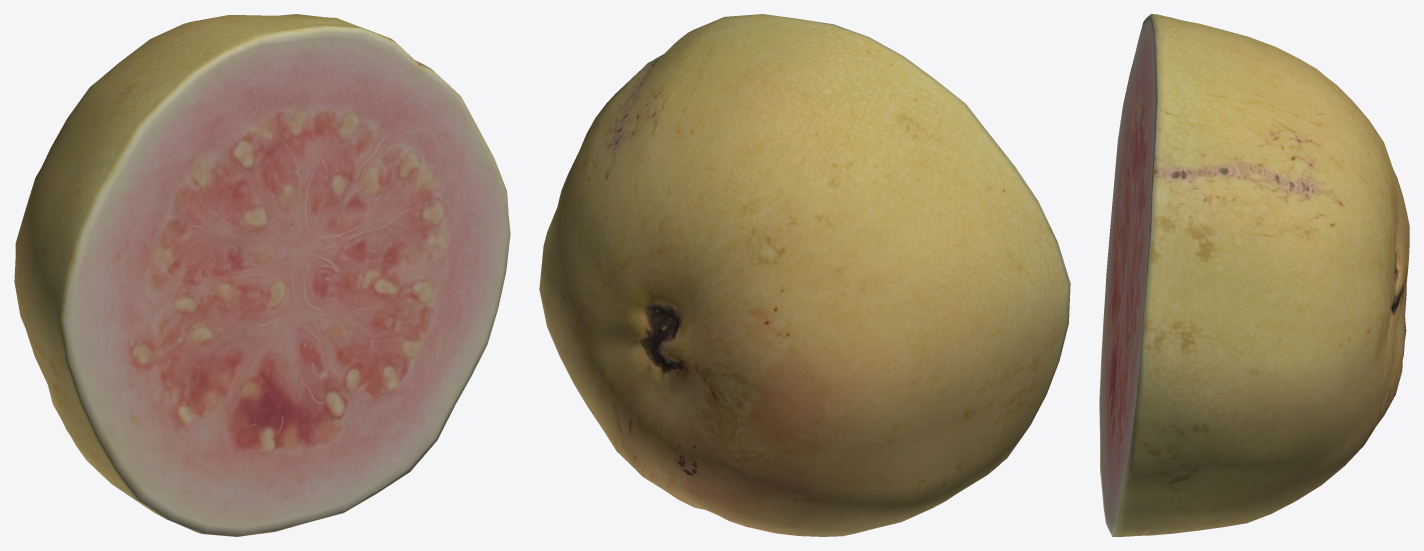
File: kiri_goyave.gltf
3 renders of one model, left to right at view 1: azimuth 30°, elevation 25°; view 2: azimuth 150°, elevation 25°; view 3: azimuth 270°, elevation 25°, orthographic. The views are drawn at different scales.
Visible parts, largest first — view 1: A30_Guava; view 2: A30_Guava; view 3: A30_Guava.
Boxes of the visible parts, x1,y1,x2,y2 form: A30_Guava: [14, 14, 510, 536]; A30_Guava: [539, 14, 1070, 536]; A30_Guava: [1099, 14, 1409, 536].
Size of the model in its own units: 0.0991 by 0.098 by 0.0586.
1 material, 1 textured.
